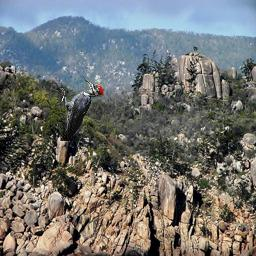Woodpecker: (60, 77, 104, 141)
